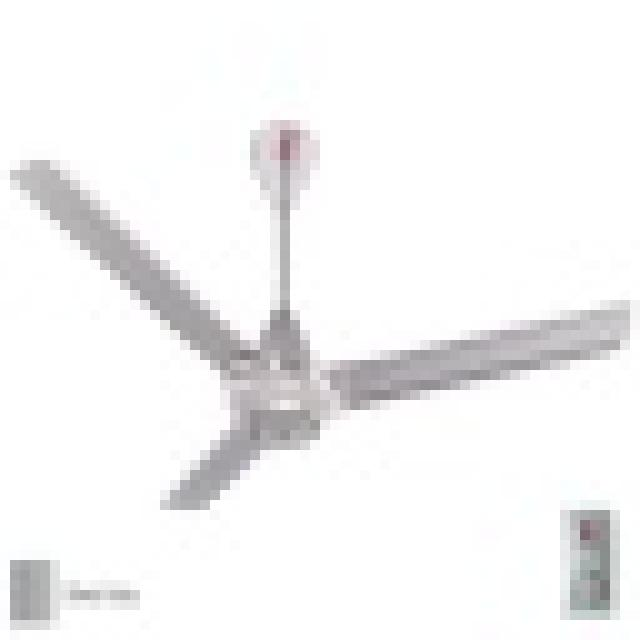Bulb: (13, 149, 627, 514)
